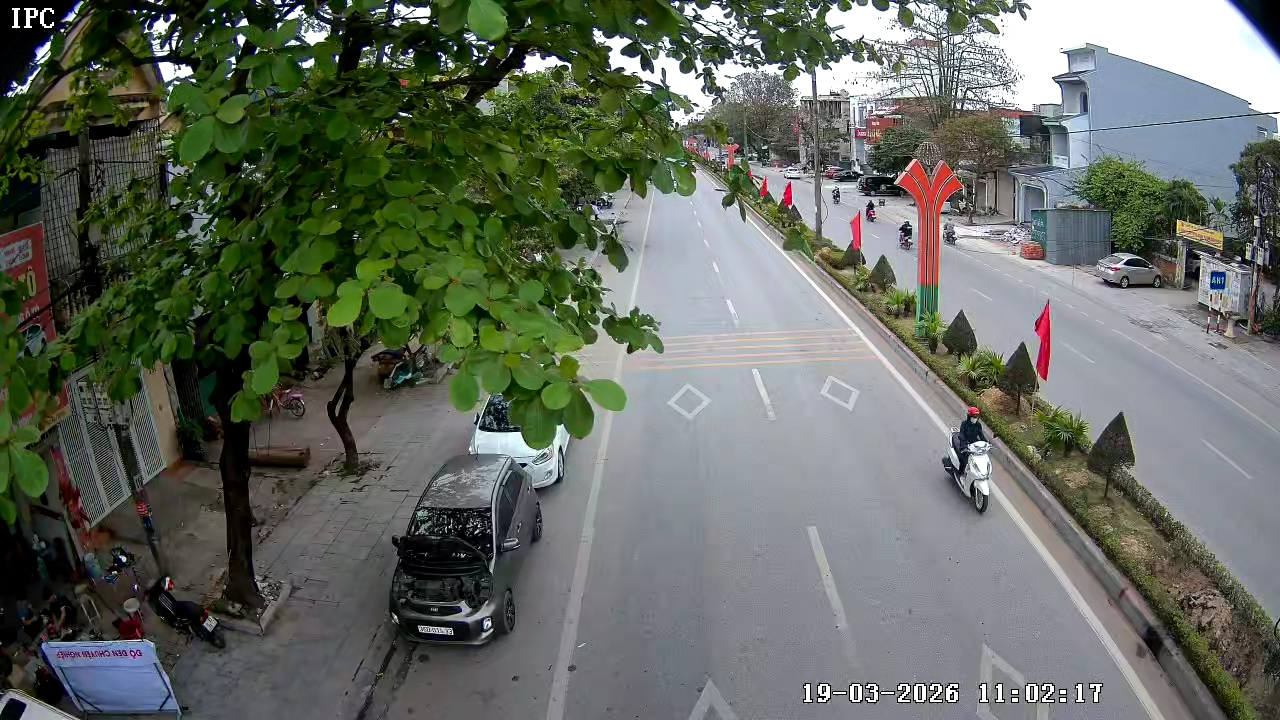car: (387, 452, 544, 646), (469, 393, 572, 492), (1093, 250, 1165, 289)
motorbike: (942, 406, 998, 514)
